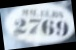character: (12, 18, 27, 34), (28, 18, 42, 34), (41, 19, 55, 35), (55, 20, 68, 36)
